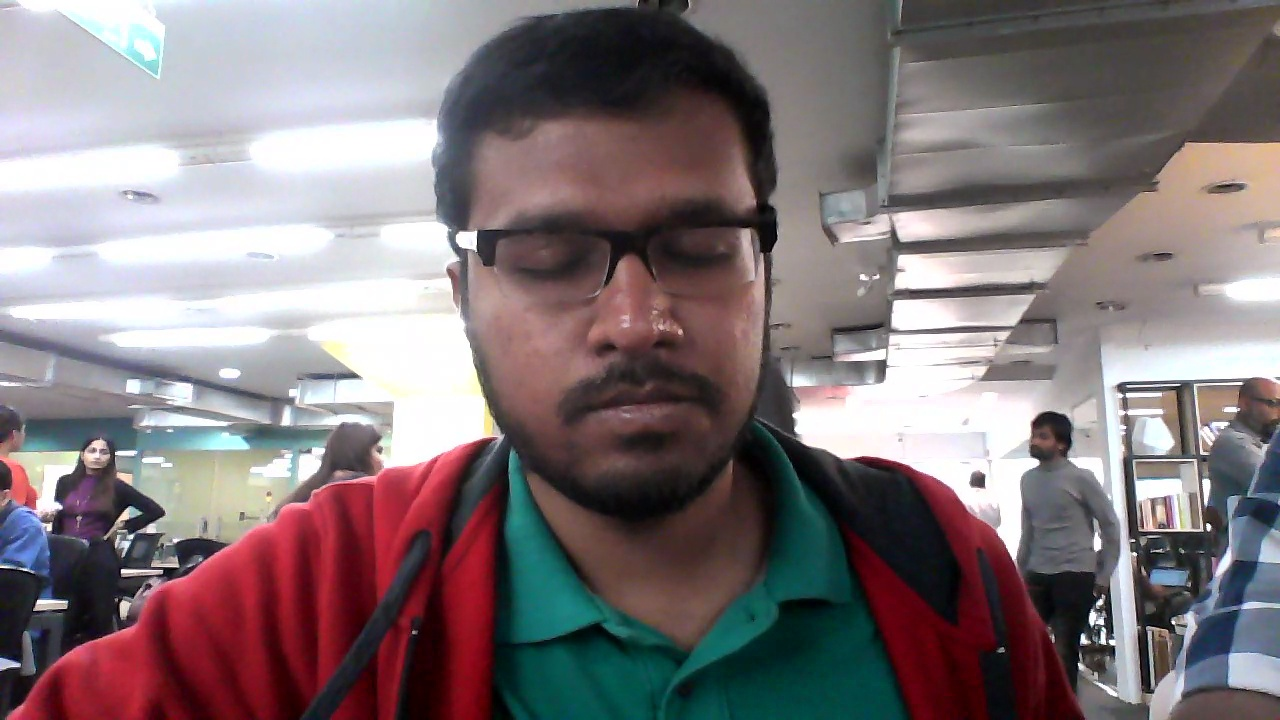closed: (431, 12, 800, 520)
